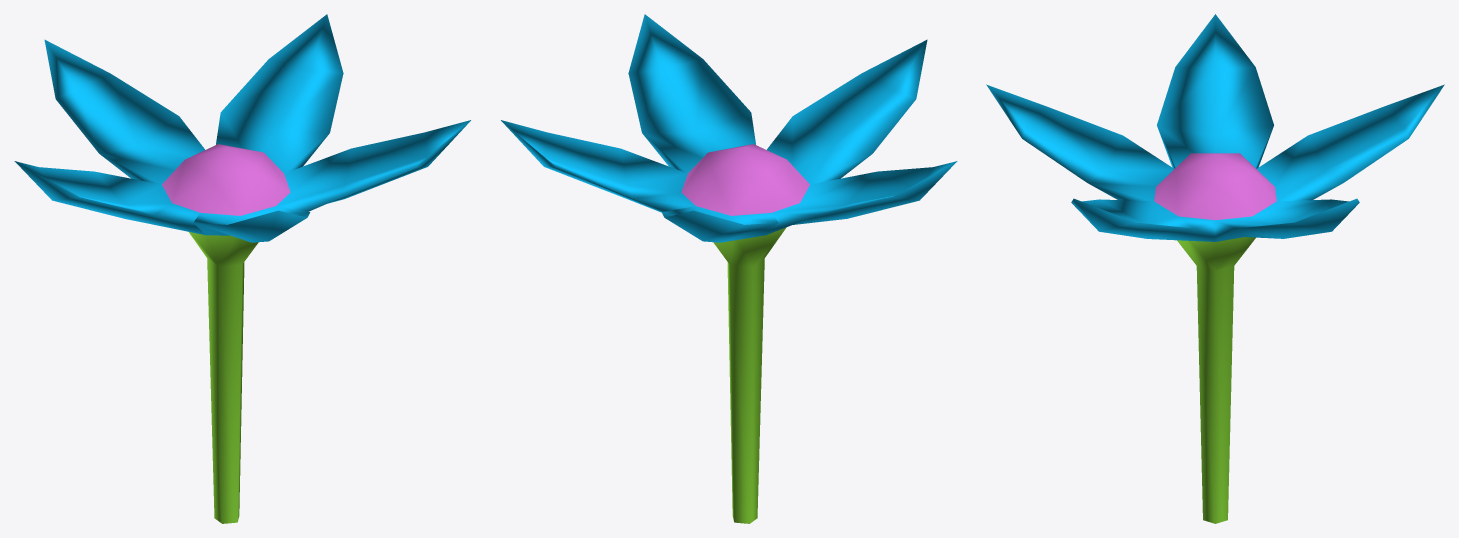
File: Daisy2_Blue.fbx
3 renders of one model, left to right at view 1: azimuth 30°, elevation 25°; view 2: azimuth 150°, elevation 25°; view 3: azimuth 270°, elevation 25°, orthographic.
Parts seen in each view (by area): view 1: Daisy2; view 2: Daisy2; view 3: Daisy2.
Part boxes in pixels (x1,y1,x2,y2): Daisy2: (14,14,470,523); Daisy2: (501,14,957,523); Daisy2: (986,14,1444,523).
Size of the model in its own units: 45.52 by 46.29 by 47.86.
